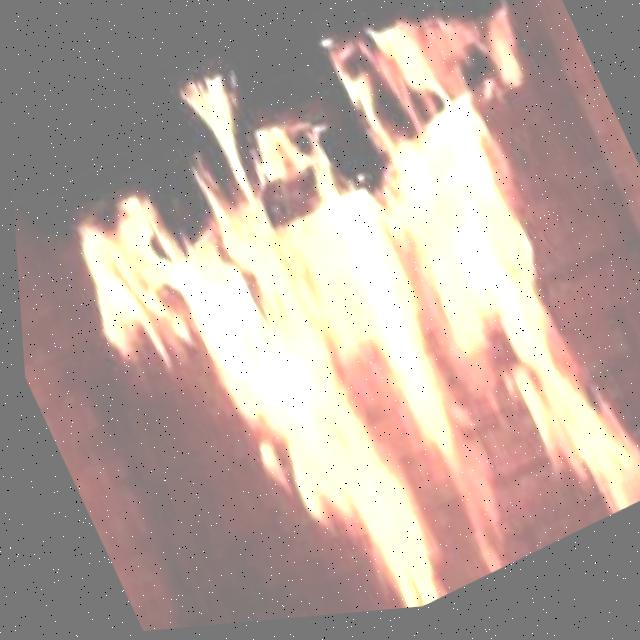Fire: (11, 0, 640, 639)
